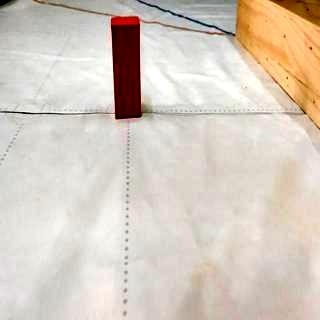redbox: (110, 14, 143, 121)
